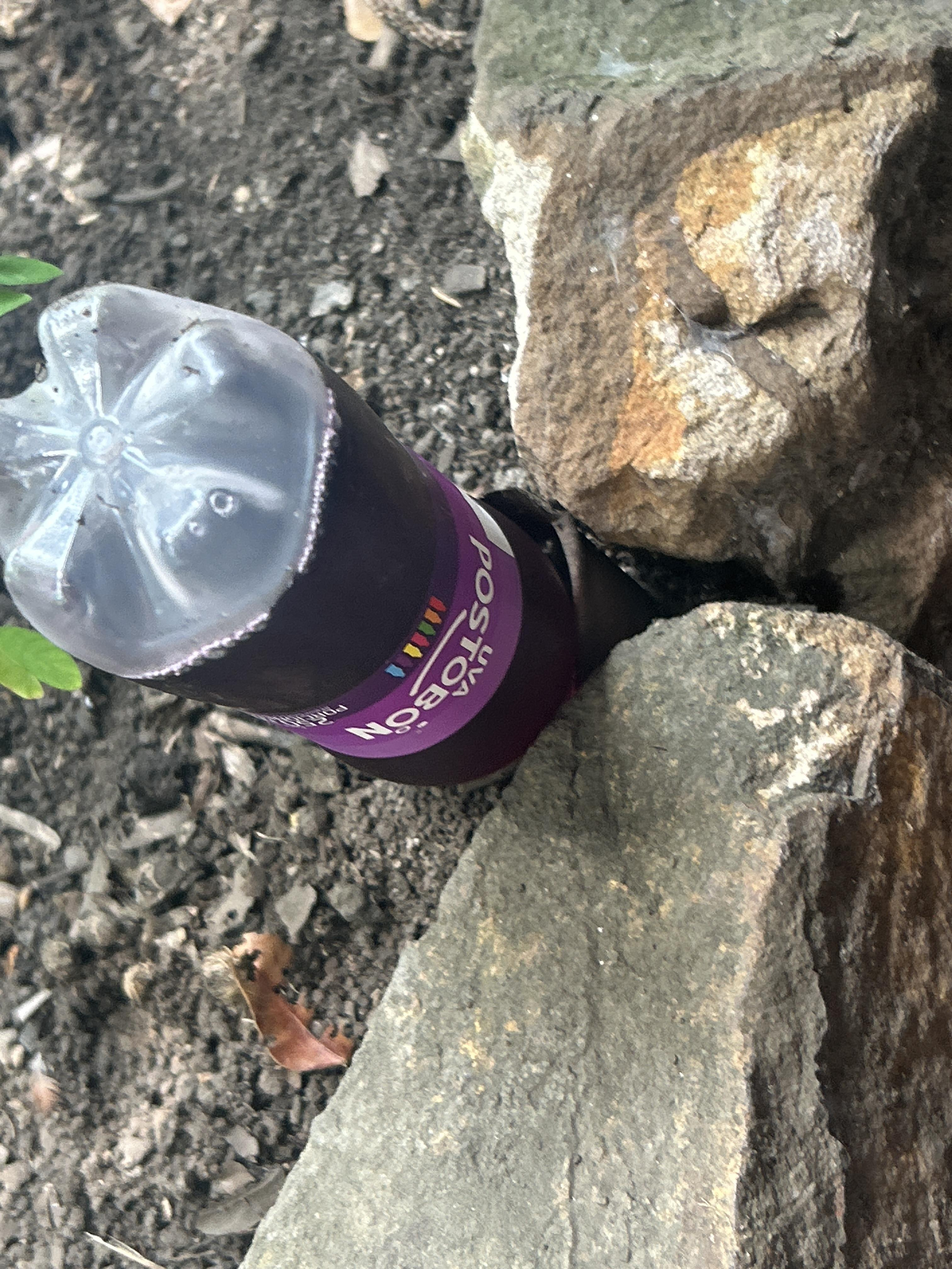uva: (0, 284, 653, 783)
